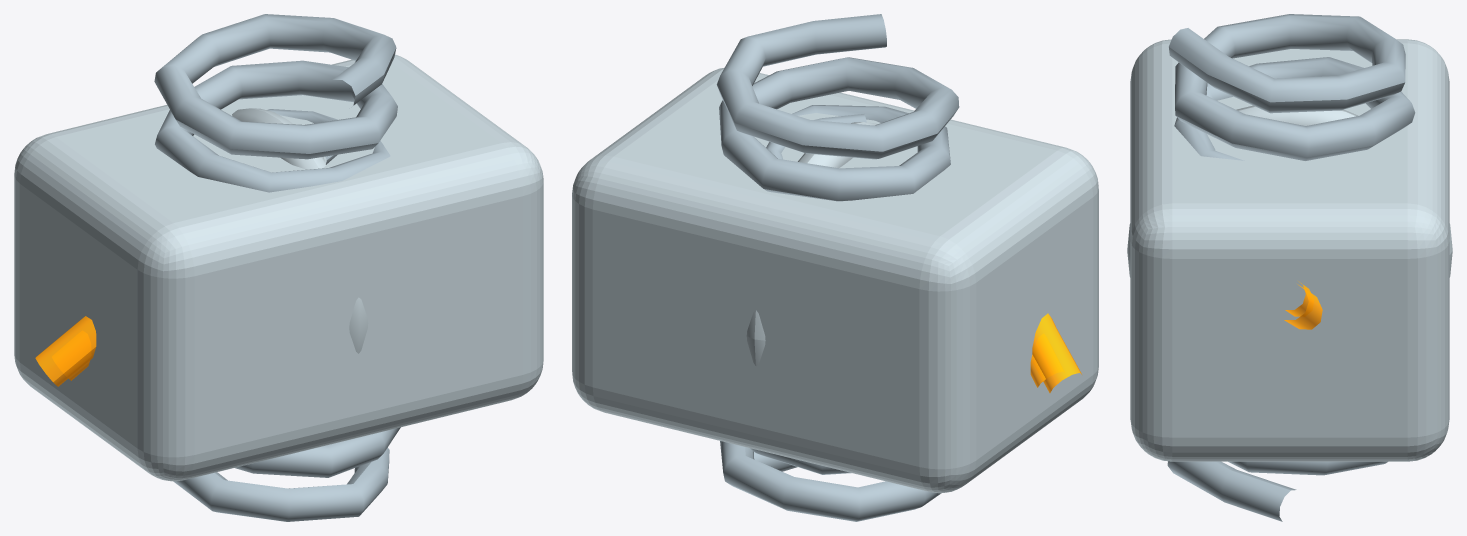
Rendered from remaining_systems_15.glb.
3 renders of one model, left to right at view 1: azimuth 30°, elevation 25°; view 2: azimuth 150°, elevation 25°; view 3: azimuth 270°, elevation 25°, orthographic.
Parts seen in each view (by area): view 1: asset_mesh__remaining_systems_1376__reference_body, asset_mesh__remaining_systems_1394__coil_spring, asset_mesh__remaining_systems_1391__fluid_path, asset_mesh__remaining_systems_1375__functional_ring; view 2: asset_mesh__remaining_systems_1376__reference_body, asset_mesh__remaining_systems_1394__coil_spring, asset_mesh__remaining_systems_1391__fluid_path, asset_mesh__remaining_systems_1375__functional_ring; view 3: asset_mesh__remaining_systems_1376__reference_body, asset_mesh__remaining_systems_1394__coil_spring, asset_mesh__remaining_systems_1375__functional_ring, asset_mesh__remaining_systems_1391__fluid_path.
Part boxes in pixels (box(x1,y1,x2,y2)): asset_mesh__remaining_systems_1376__reference_body: box(14, 54, 543, 481); asset_mesh__remaining_systems_1394__coil_spring: box(154, 14, 400, 521); asset_mesh__remaining_systems_1391__fluid_path: box(35, 316, 96, 386); asset_mesh__remaining_systems_1375__functional_ring: box(232, 108, 368, 353); asset_mesh__remaining_systems_1376__reference_body: box(572, 67, 1098, 493); asset_mesh__remaining_systems_1394__coil_spring: box(716, 14, 959, 521); asset_mesh__remaining_systems_1391__fluid_path: box(1032, 313, 1081, 392); asset_mesh__remaining_systems_1375__functional_ring: box(746, 122, 877, 366); asset_mesh__remaining_systems_1376__reference_body: box(1130, 39, 1449, 461); asset_mesh__remaining_systems_1394__coil_spring: box(1167, 14, 1415, 521); asset_mesh__remaining_systems_1375__functional_ring: box(1127, 105, 1452, 277); asset_mesh__remaining_systems_1391__fluid_path: box(1284, 284, 1322, 329).
Size of the model in its own units: 1.47 by 1.31 by 0.8573.
